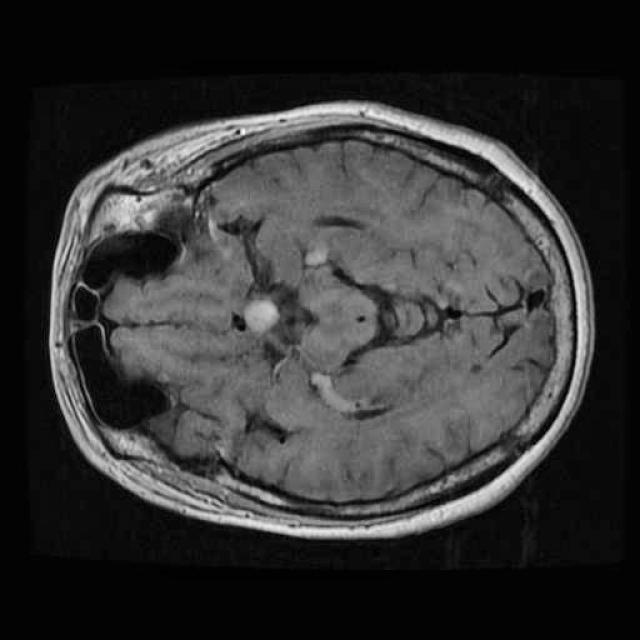Tumor: (230, 289, 286, 342)
